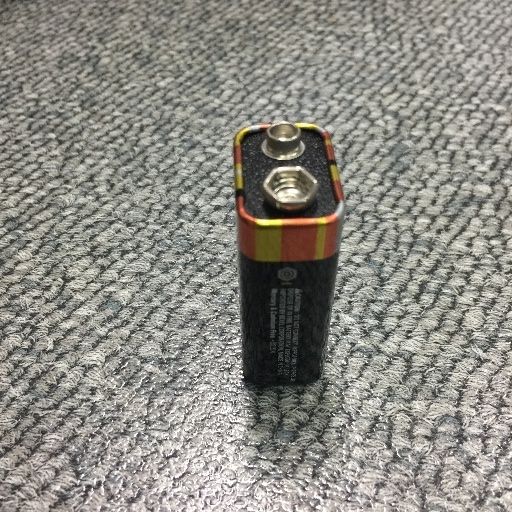Battery_3: (223, 110, 348, 406)
